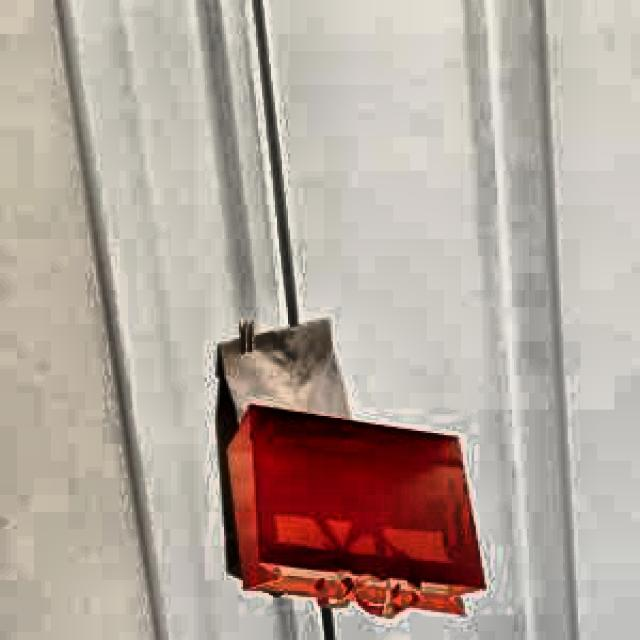Paper-bag: (207, 403, 508, 640), (205, 300, 388, 537)
